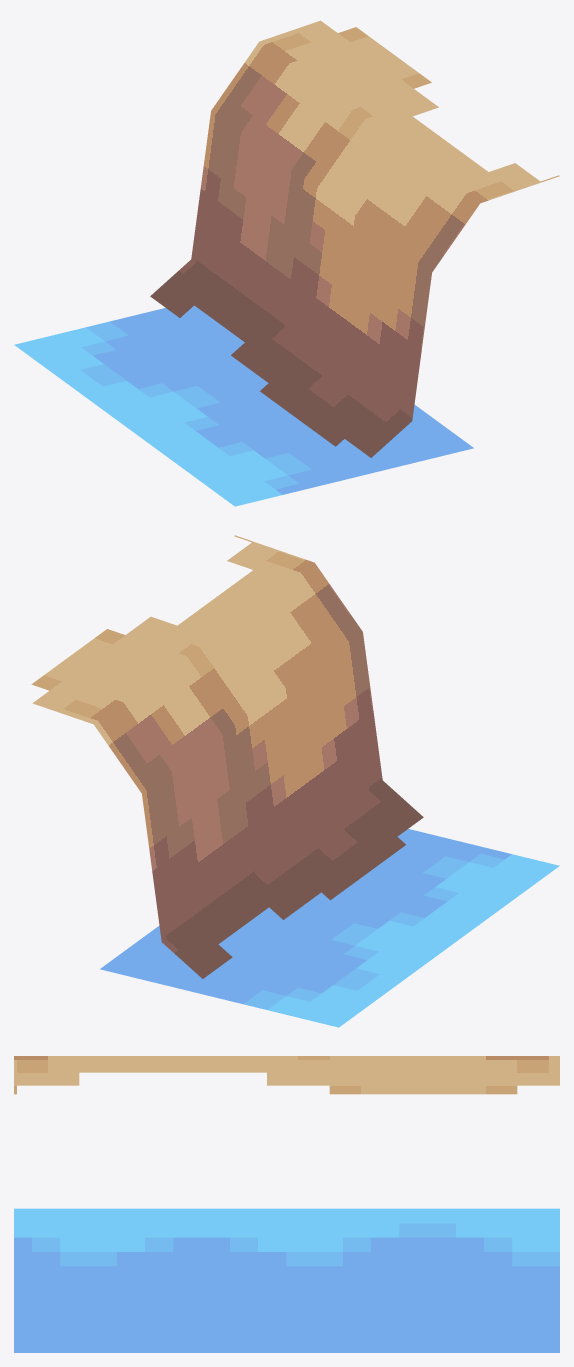
The picture shows the model from 3 angles, top to bottom: view 1: azimuth 30°, elevation 25°; view 2: azimuth 150°, elevation 25°; view 3: azimuth 270°, elevation 25°; orthographic projection. The views are drawn at different scales.
Size of the model in its own units: 0.8486 by 0.627 by 1.
Materials: 2 (2 with a texture image).
